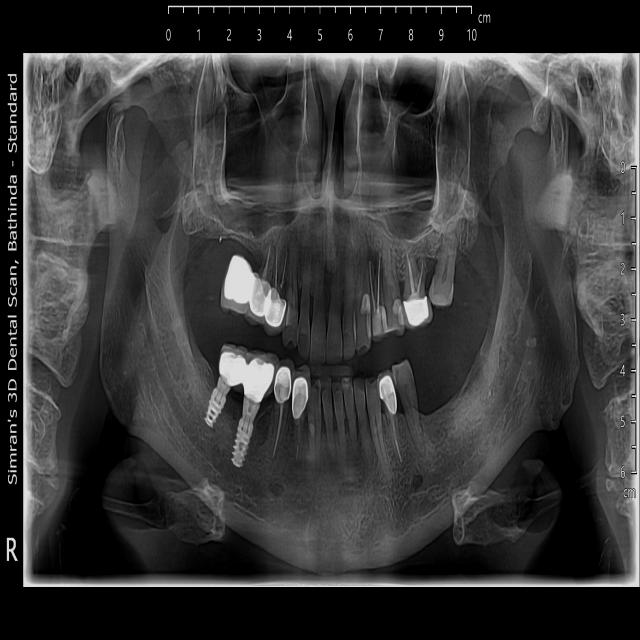Crown: (220, 253, 255, 312), (242, 352, 278, 403), (216, 345, 246, 390), (402, 290, 434, 328), (263, 288, 287, 336), (247, 276, 270, 325), (274, 363, 292, 405), (292, 374, 308, 421), (380, 373, 398, 412)
Filling: (372, 308, 384, 339)
Implant: (231, 417, 252, 467), (203, 389, 225, 429)
Mandibular Canal: (137, 273, 272, 505), (414, 265, 543, 496)
Root Canal Treatment: (388, 410, 404, 468), (270, 400, 285, 461), (405, 249, 416, 291), (261, 241, 271, 280), (369, 261, 376, 312), (279, 251, 286, 294), (416, 258, 422, 293), (377, 254, 380, 311), (275, 247, 278, 293)
maxillary sinus: (356, 55, 472, 246), (193, 52, 305, 237)
